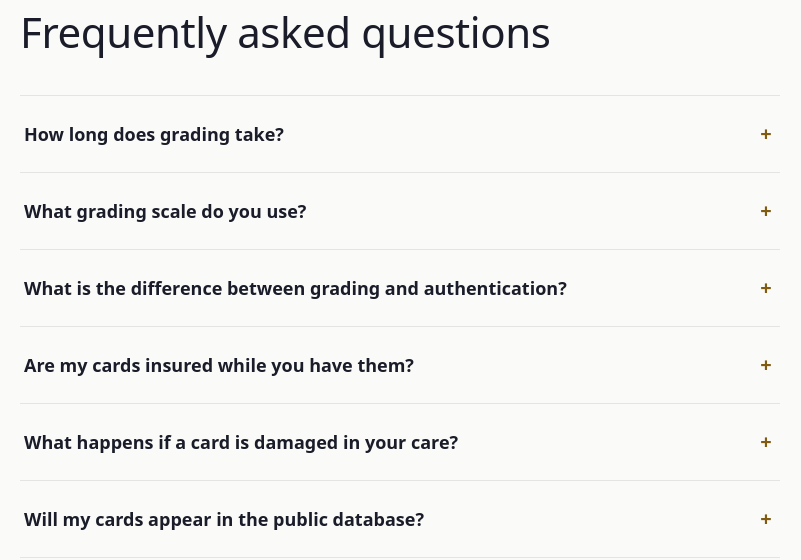
Test case: FaqSection › toggles a panel open and closed
This screenshot has width=801, height=560.
Click the button "How long does grading take?" at x=154, y=134, box [20,96,780,172]
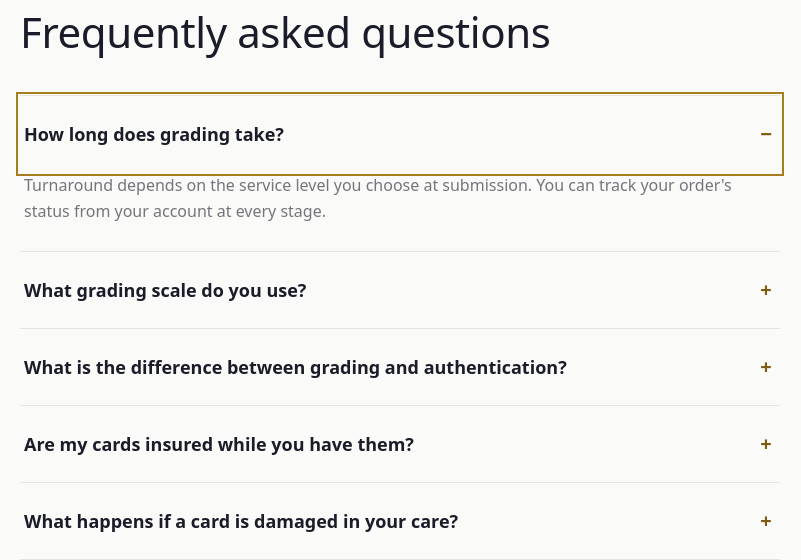
Result: the text "Turnaround depends on the service level you choose at submission. You can track your order's status from your account at" is shown at [24,174,732,222]
Click the button "How long does grading take?" at x=154, y=134, box [20,96,780,172]
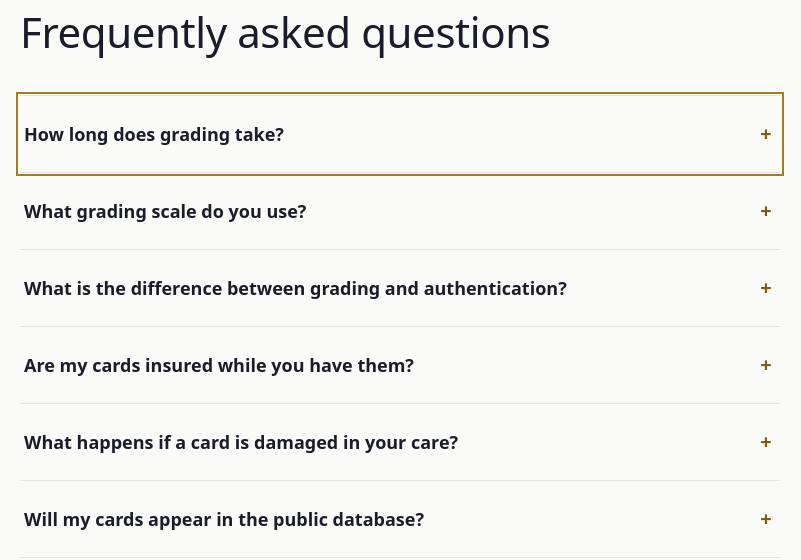
Result: the text "Turnaround depends on the service level you choose at submission. You can track your order's status from your account at" is gone
